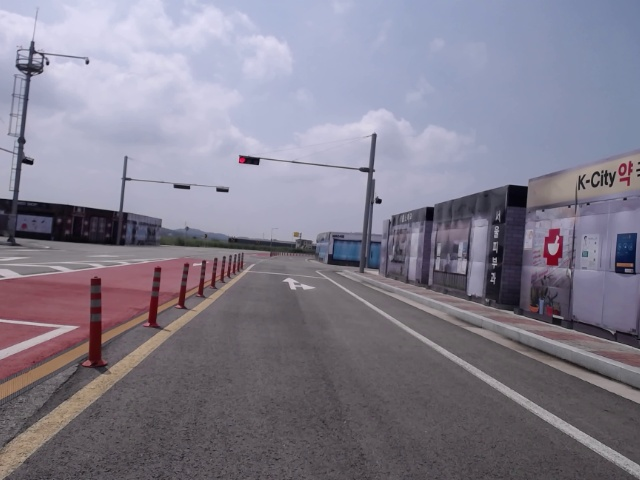red_3: (238, 155, 260, 165)
